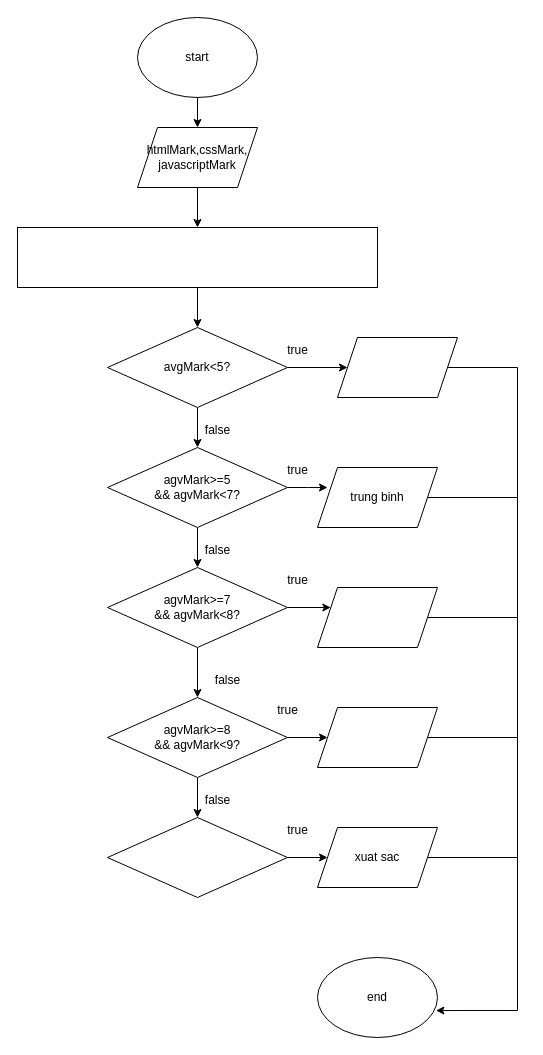
Image size: 543x1055. Some labels were removed from this diagram. The shapes that lost their labels are listed below. From the top down, each one's centre as x and y in pixels, then its label:
At (x=197, y=257): "avgMark =( htmlMark+cssMark + javascriptMark)/3".
At (x=397, y=367): "Yeu".
At (x=377, y=617): "kha".
At (x=377, y=737): "gioi".
At (x=197, y=857): "agvMark>=9 && agvMark<=10?".
